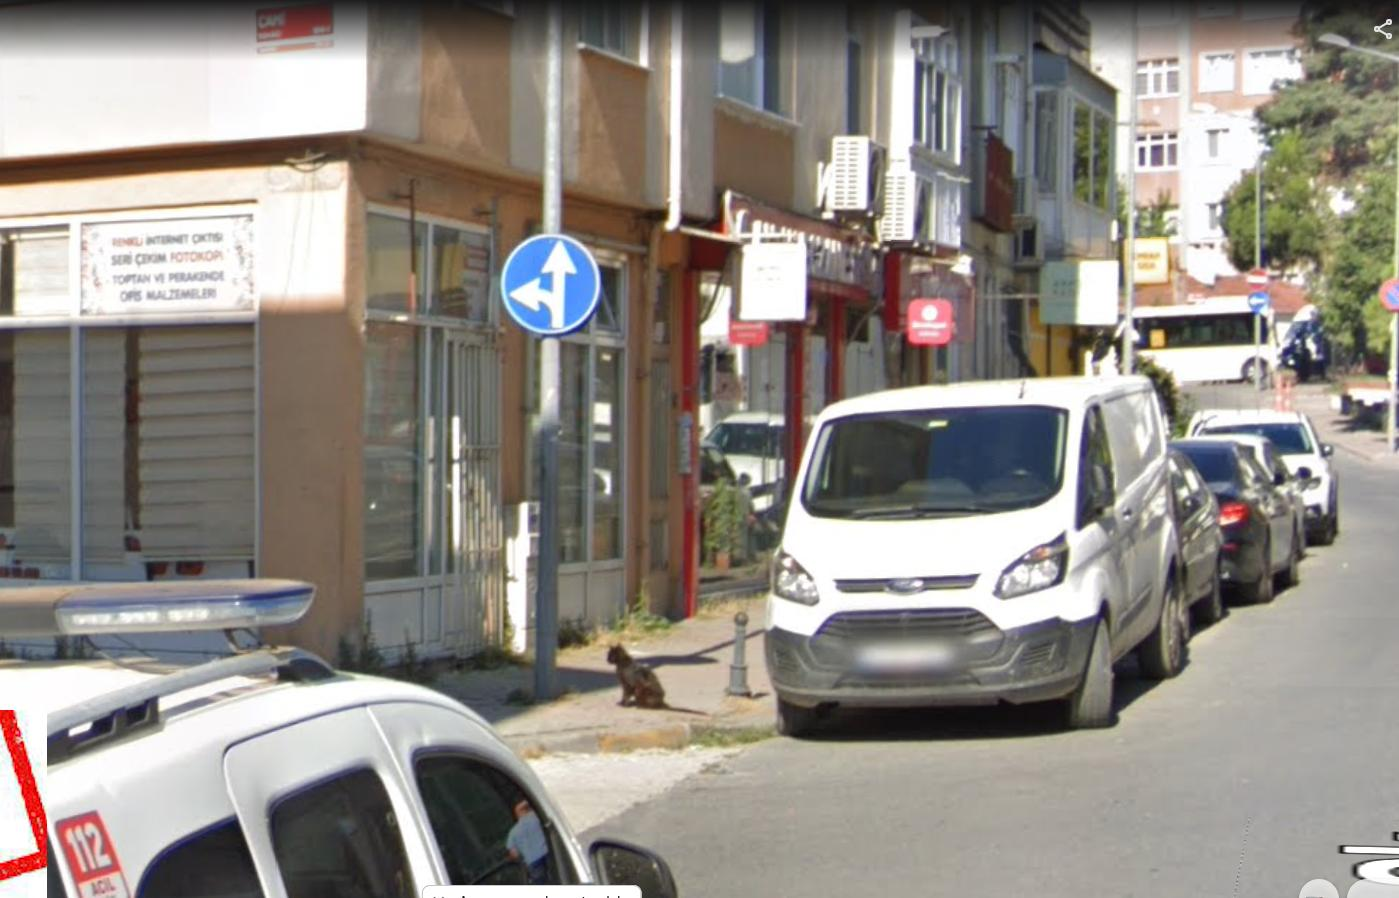turnright: (1246, 290, 1268, 312)
